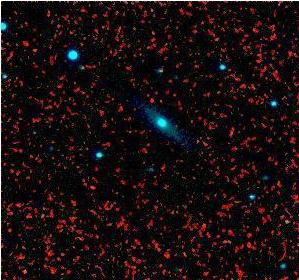star: (77, 171, 107, 201)
